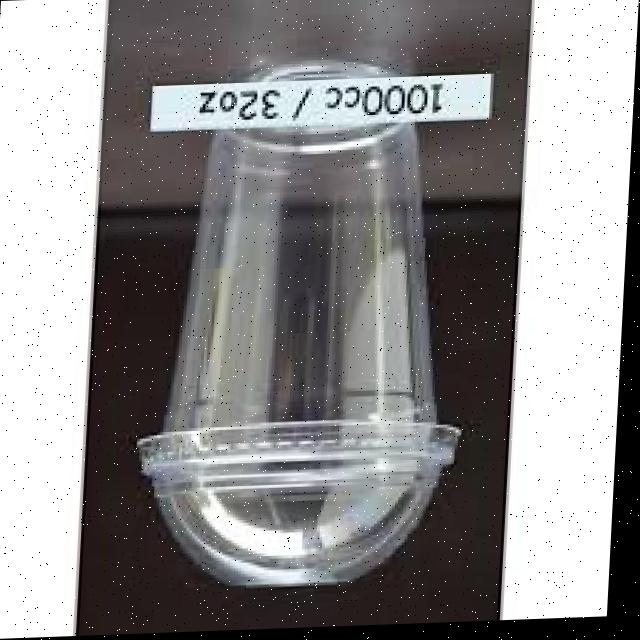cup: (121, 15, 494, 539)
